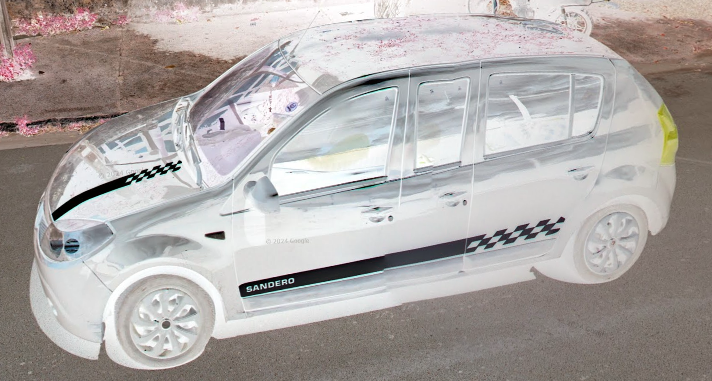car: (32, 14, 678, 370)
